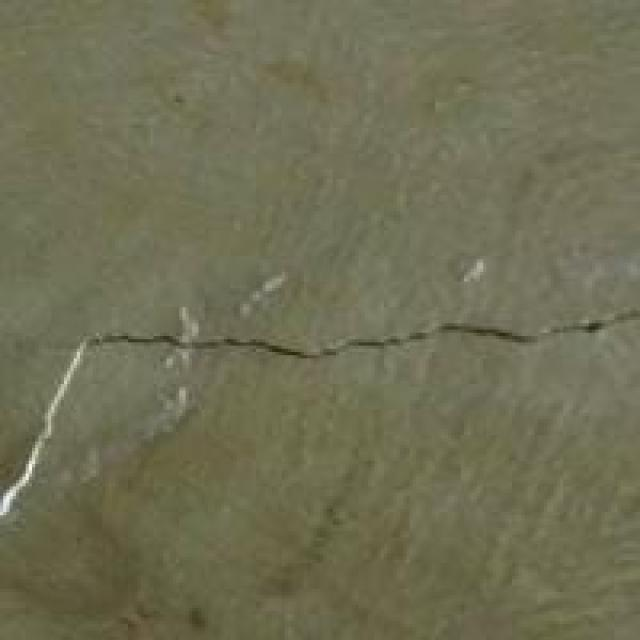Crack: (0, 259, 637, 608)
